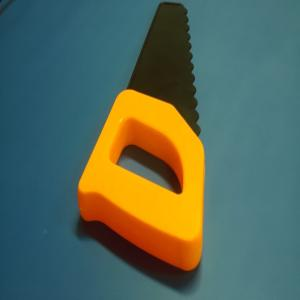serrote: (77, 1, 206, 273)
